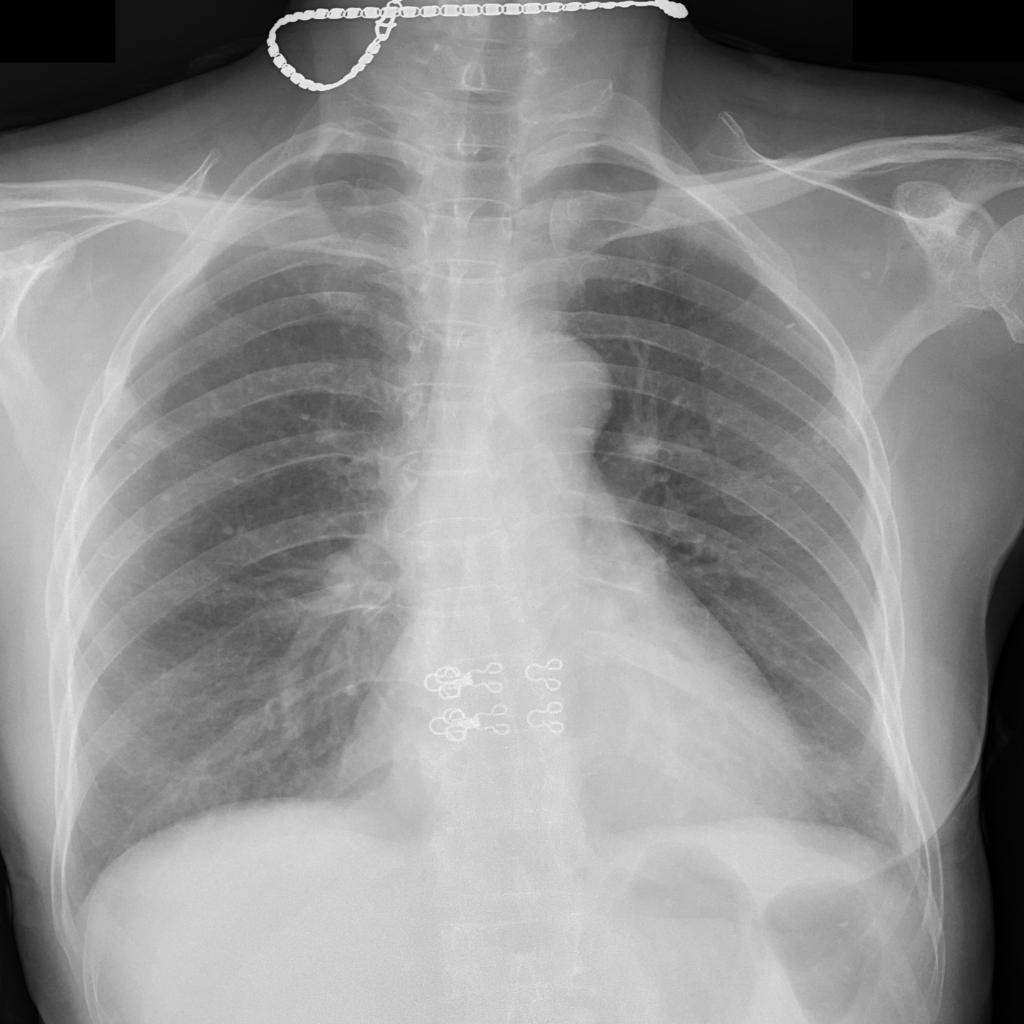Nodule: (758, 422, 825, 497)
